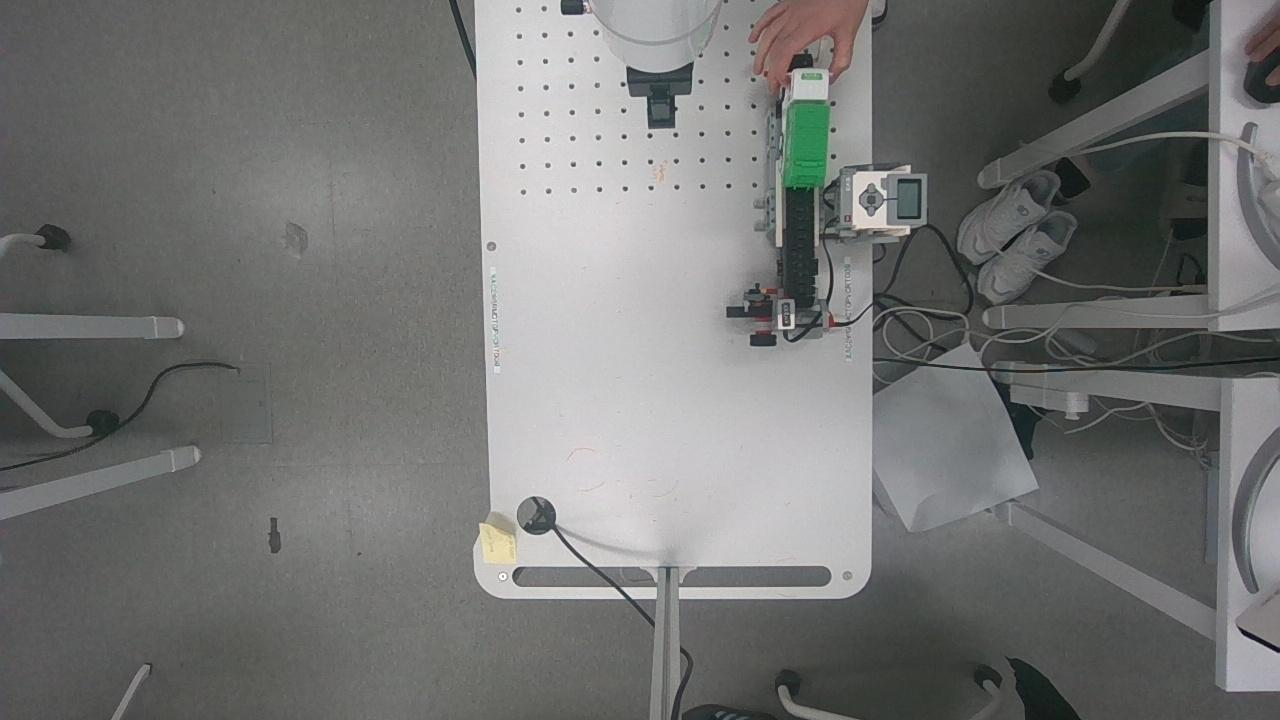truck: (768, 65, 836, 194)
